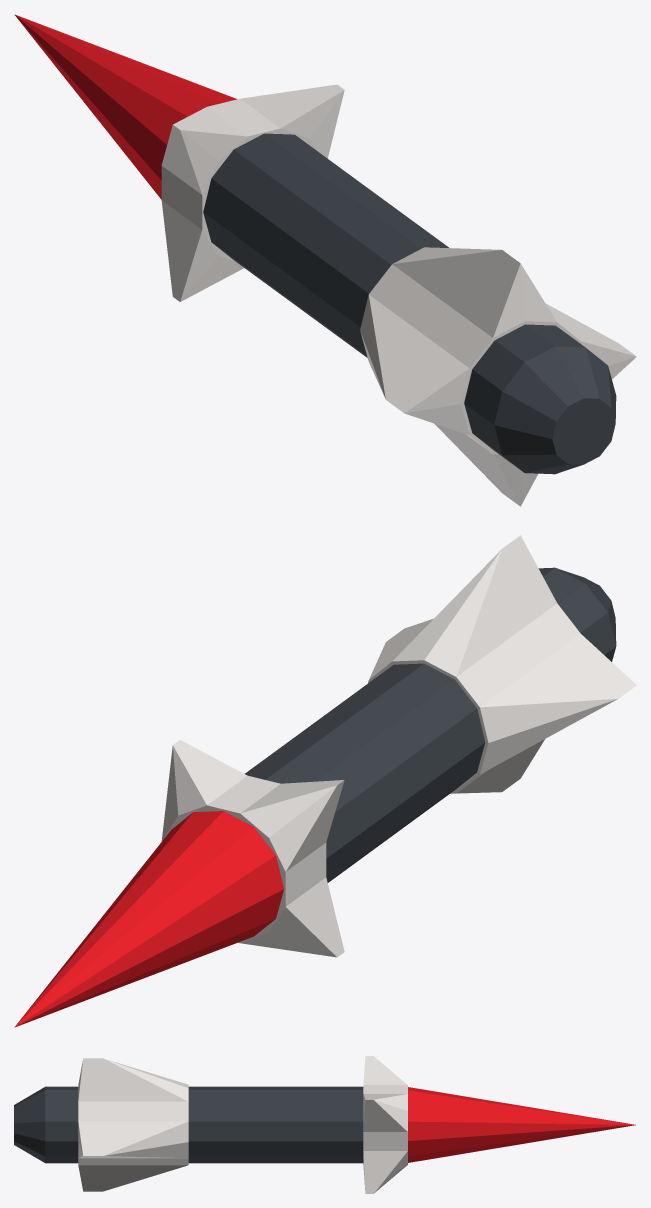
The model's file is Missile.fbx.
3 renders of one model, top to bottom at view 1: azimuth 30°, elevation 25°; view 2: azimuth 150°, elevation 25°; view 3: azimuth 270°, elevation 25°, orthographic. The views are drawn at different scales.
Visible parts, largest first — view 1: Body, WIngs, Tip; view 2: WIngs, Body, Tip; view 3: Body, WIngs, Tip.
Boxes of the visible parts, x1,y1,x2,y2 form: Body: (203, 133, 616, 474); WIngs: (161, 84, 636, 506); Tip: (14, 14, 236, 199); WIngs: (161, 535, 636, 957); Body: (245, 567, 616, 882); Tip: (14, 811, 283, 1027); Body: (14, 1086, 363, 1163); WIngs: (78, 1056, 407, 1193); Tip: (408, 1087, 635, 1162).
Size of the model in its own units: 191 by 191 by 809.
